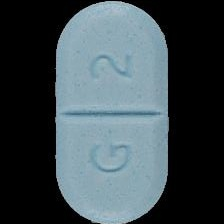0143-9919: (0, 0, 224, 224)
